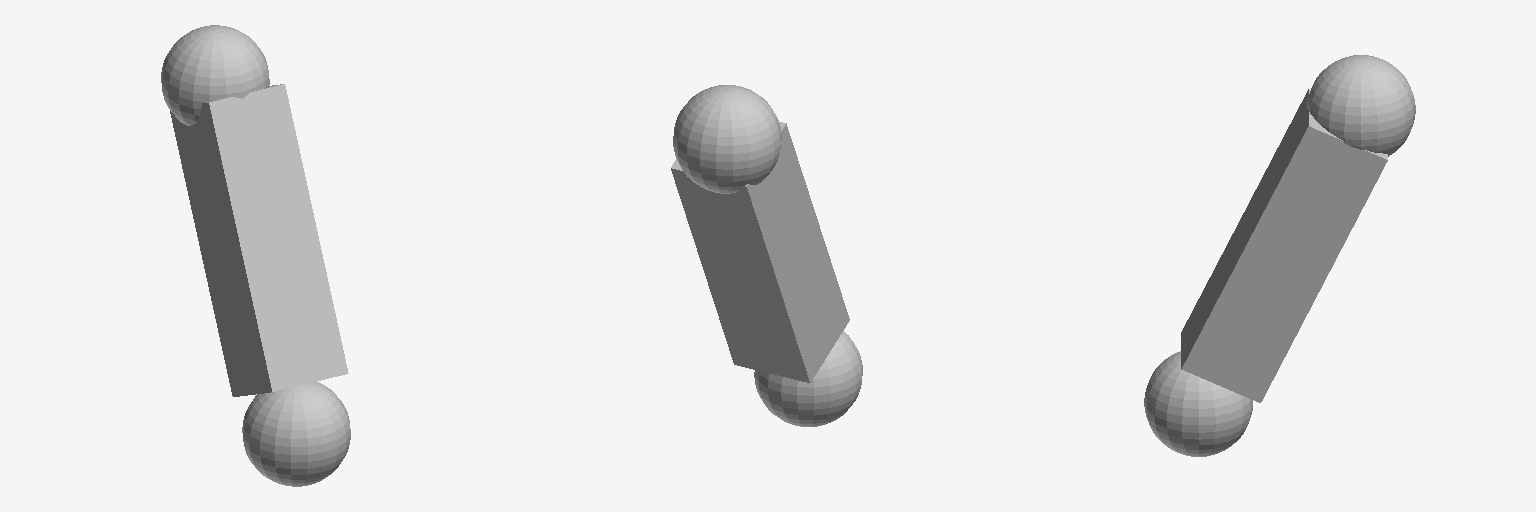
File: lefthand.obj
The picture shows the model from 3 angles: view 1: azimuth 30°, elevation 25°; view 2: azimuth 150°, elevation 25°; view 3: azimuth 270°, elevation 25°; orthographic projection.
Visible parts, largest first — view 1: pCube10, pSphere10, pSphere7; view 2: pCube10, pSphere7, pSphere10; view 3: pCube10, pSphere7, pSphere10.
Boxes of the visible parts, <box> form: pCube10: <box>170,84,348,396</box>; pSphere10: <box>242,382,350,486</box>; pSphere7: <box>161,25,269,125</box>; pCube10: <box>671,122,849,382</box>; pSphere7: <box>673,85,781,193</box>; pSphere10: <box>754,331,862,426</box>; pCube10: <box>1181,89,1387,402</box>; pSphere7: <box>1307,55,1415,156</box>; pSphere10: <box>1144,351,1252,456</box>.
Bounding box in the file's own units: 0.9467 × 3.75 × 2.35.